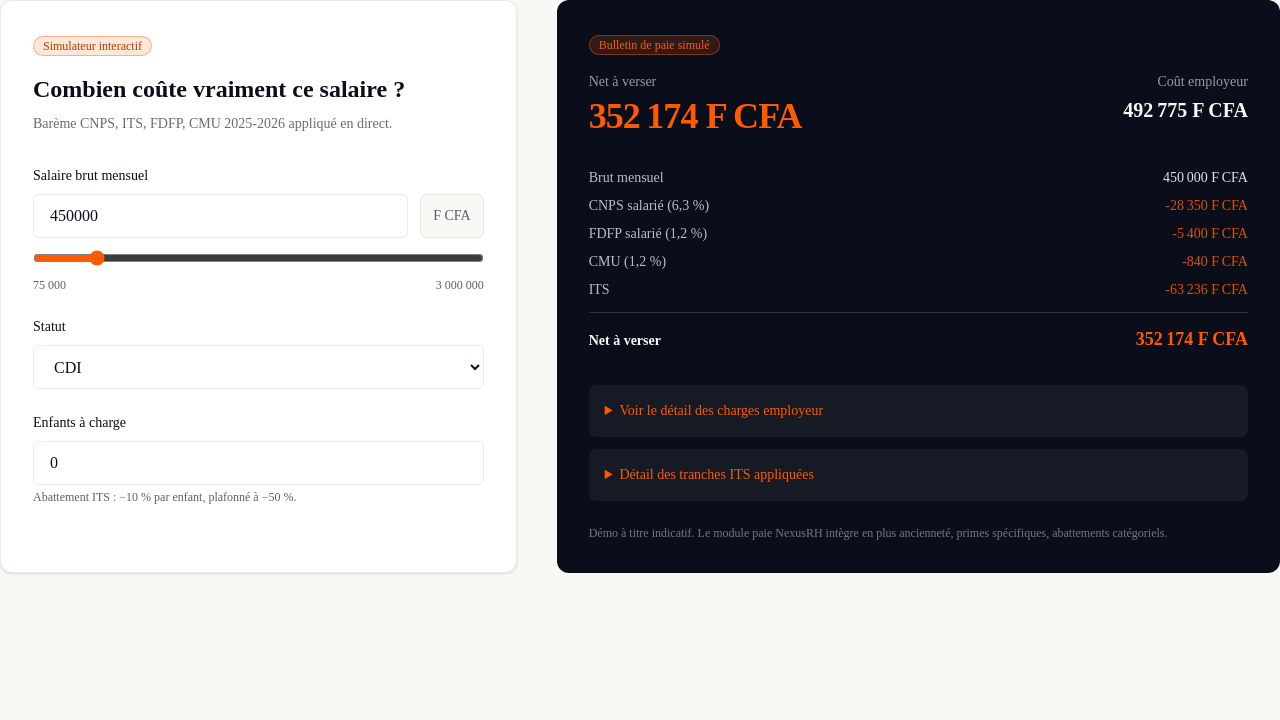
Test case: NexusRhDemo (simulateur paie) › clamp les enfants à 0-10
Replace the text in the number field named "Nombre d'enfants à charge" with "20". click: (258, 463)
box: [33,441,484,485]
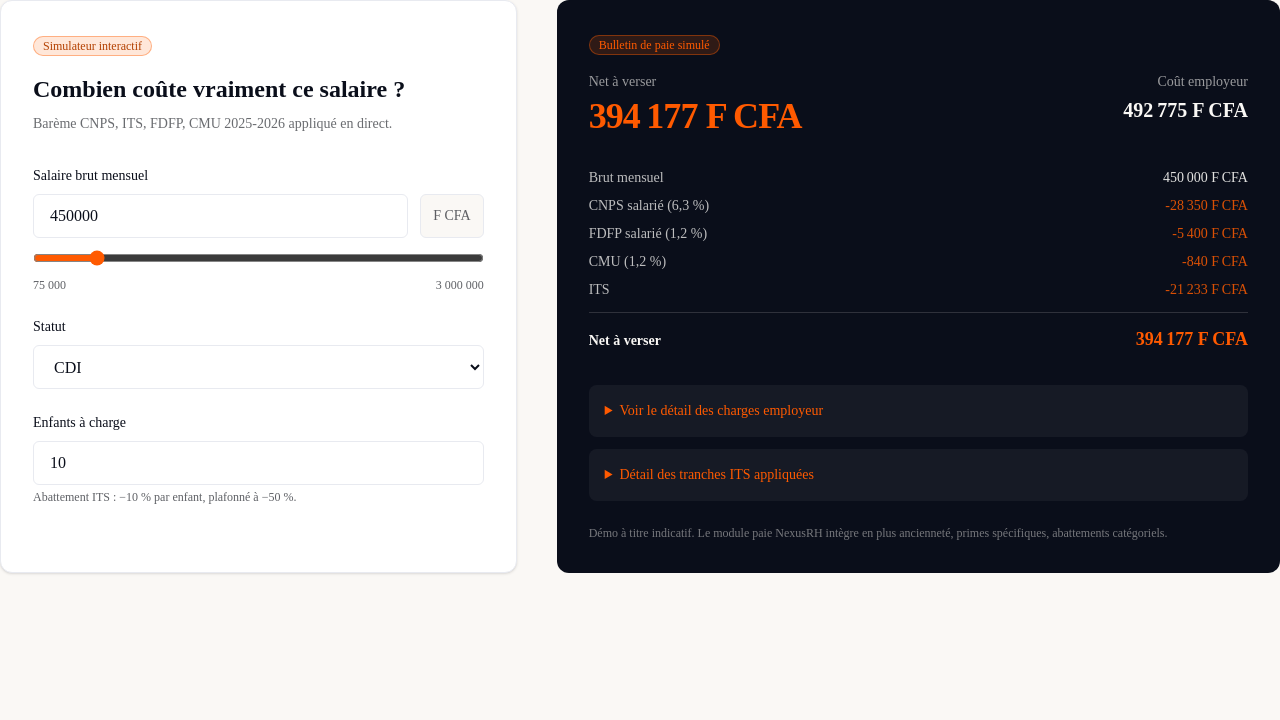
Check: the number field named "Nombre d'enfants à charge" holds "10"
Replace the text in the number field named "Nombre d'enfants à charge" with "-5". click: (258, 463)
box: [33,441,484,485]
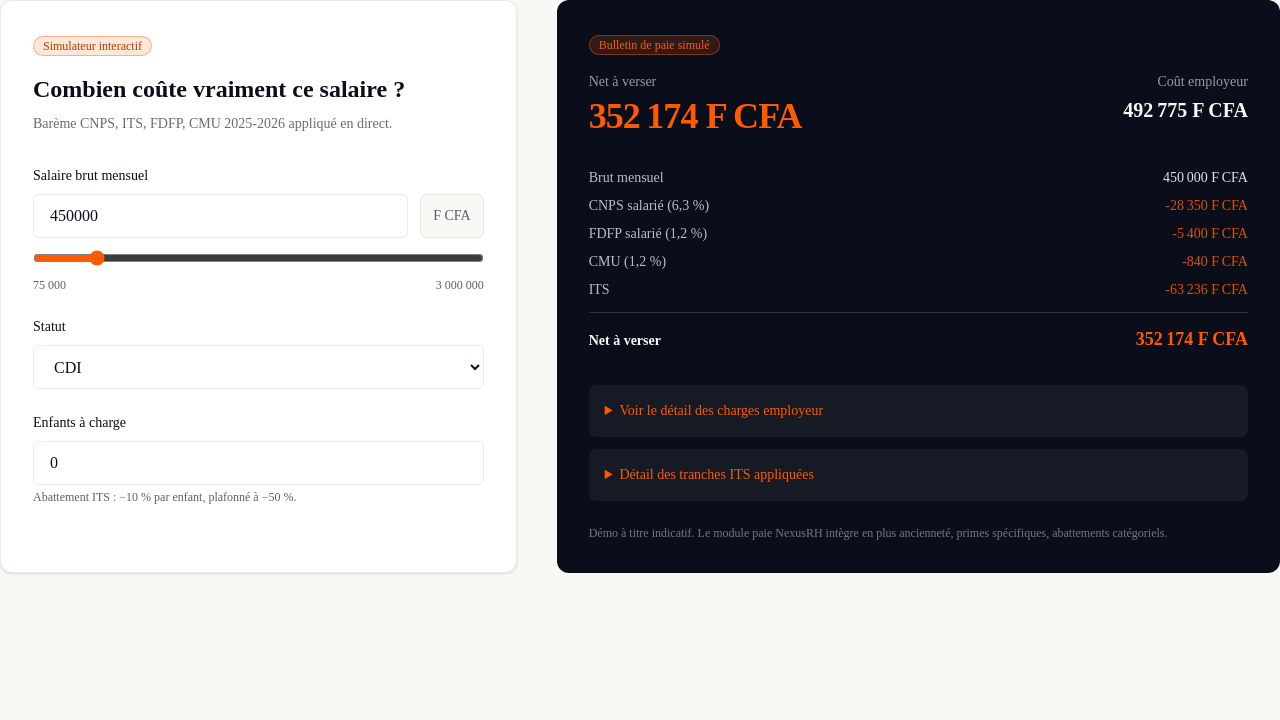
Check: the number field named "Nombre d'enfants à charge" holds "0", box [33,441,484,485]
